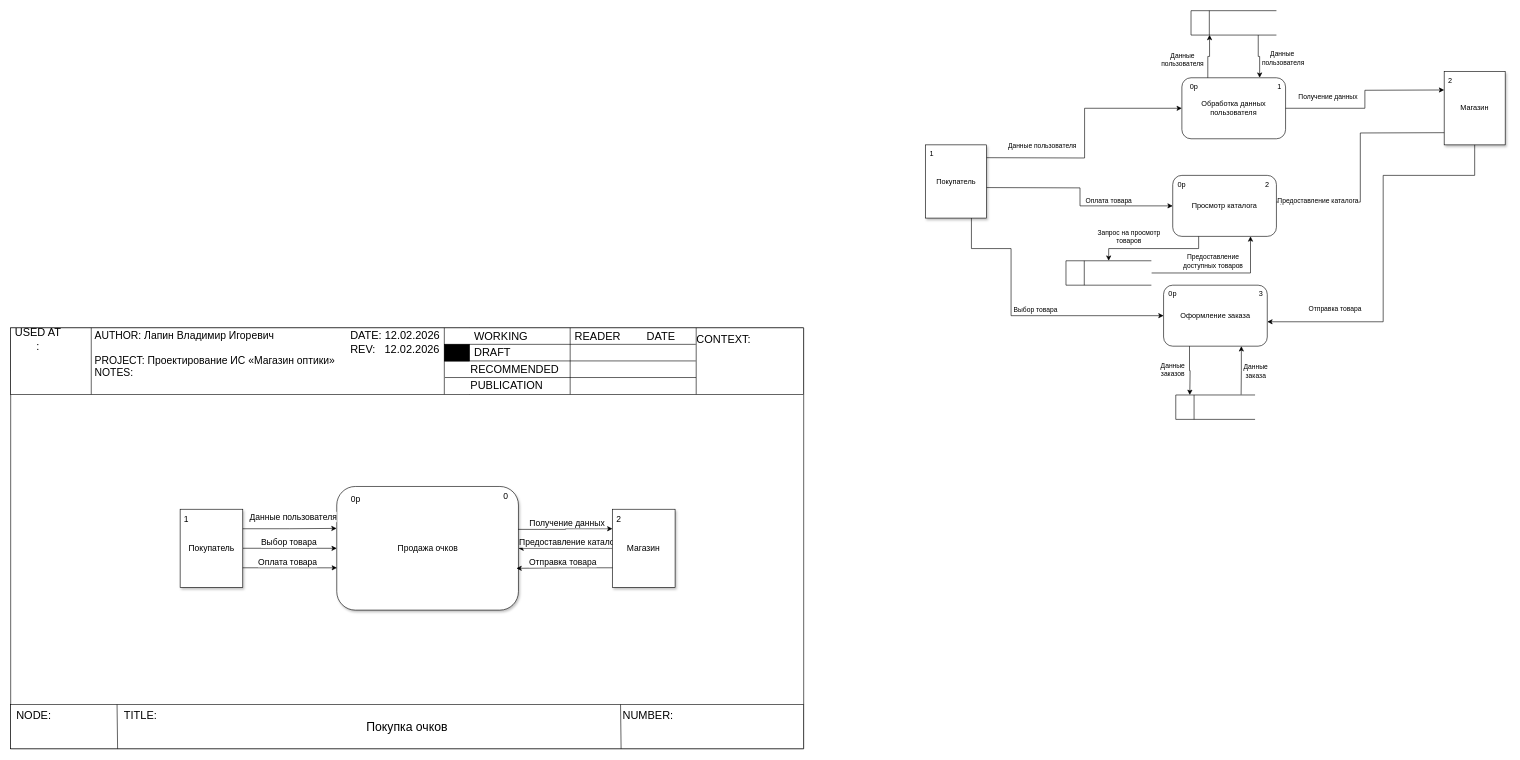
Image size: 1520x760. Some labels were removed from this diagram. The centre of each missing label's shape, as x and y in pixels:
1 База данных пользователей: (x=1233, y=22)
2 Каталог товаров: (x=1108, y=272)
3 База заказов: (x=1215, y=406)
